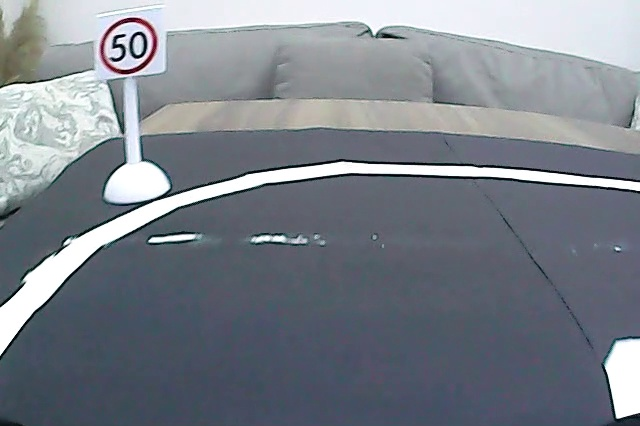speed limit 50: (97, 14, 160, 77)
